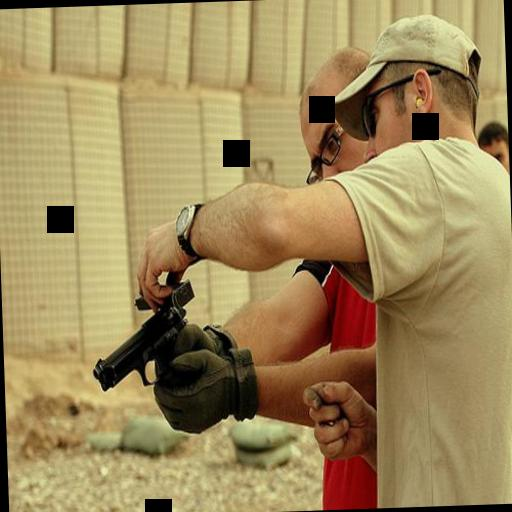Handgun: (90, 292, 188, 404)
